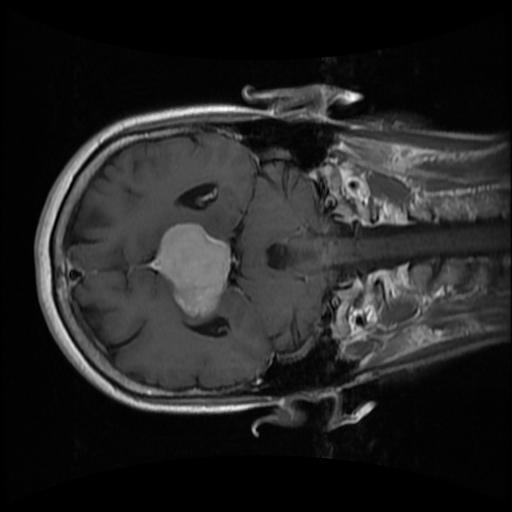meningioma: (153, 223, 233, 315)
